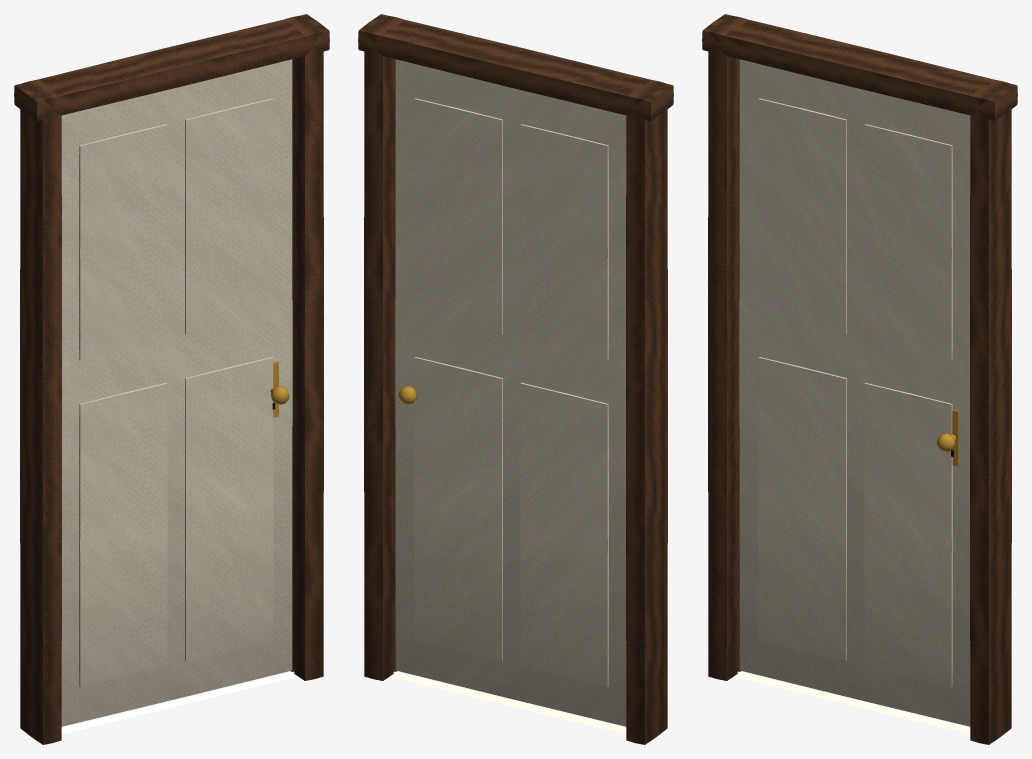
The model's file is grandma_door.glb.
3 views of the same model, side by side, from view 1: azimuth 30°, elevation 25°; view 2: azimuth 150°, elevation 25°; view 3: azimuth 330°, elevation 25° (orthographic).
Visible parts, largest first — view 1: door, frame_L, frame_R, frame_head, light_leak; view 2: door, frame_L, frame_R, frame_head, light_leak_back; view 3: door, frame_R, frame_L, frame_head, light_leak.
Boxes of the visible parts, x1,y1,x2,y2 form: door: (61,59,292,726); frame_L: (20,79,61,744); frame_R: (284,15,323,680); frame_head: (14,14,329,121); light_leak: (61,671,294,733); door: (395,59,626,726); frame_L: (626,79,667,744); frame_R: (364,15,403,680); frame_head: (358,14,673,121); light_leak_back: (393,671,626,733); door: (739,59,970,726); frame_R: (970,79,1011,744); frame_L: (708,15,747,680); frame_head: (702,14,1017,121); light_leak: (737,671,970,733).
Bounding box in the file's own units: 1 × 2.1 × 0.1833.
3 materials, 2 textured.
